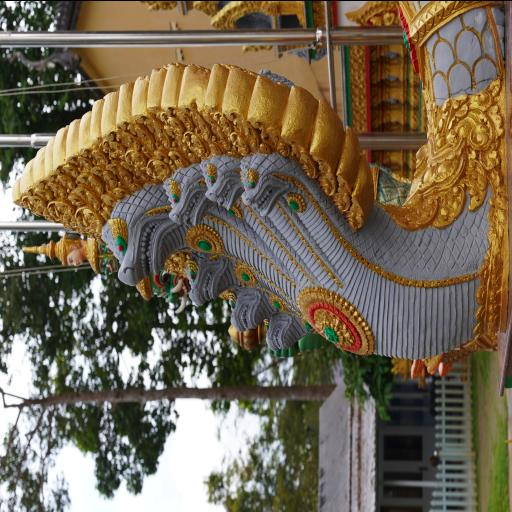ran: (3, 0, 512, 371)
than: (28, 220, 106, 286)
